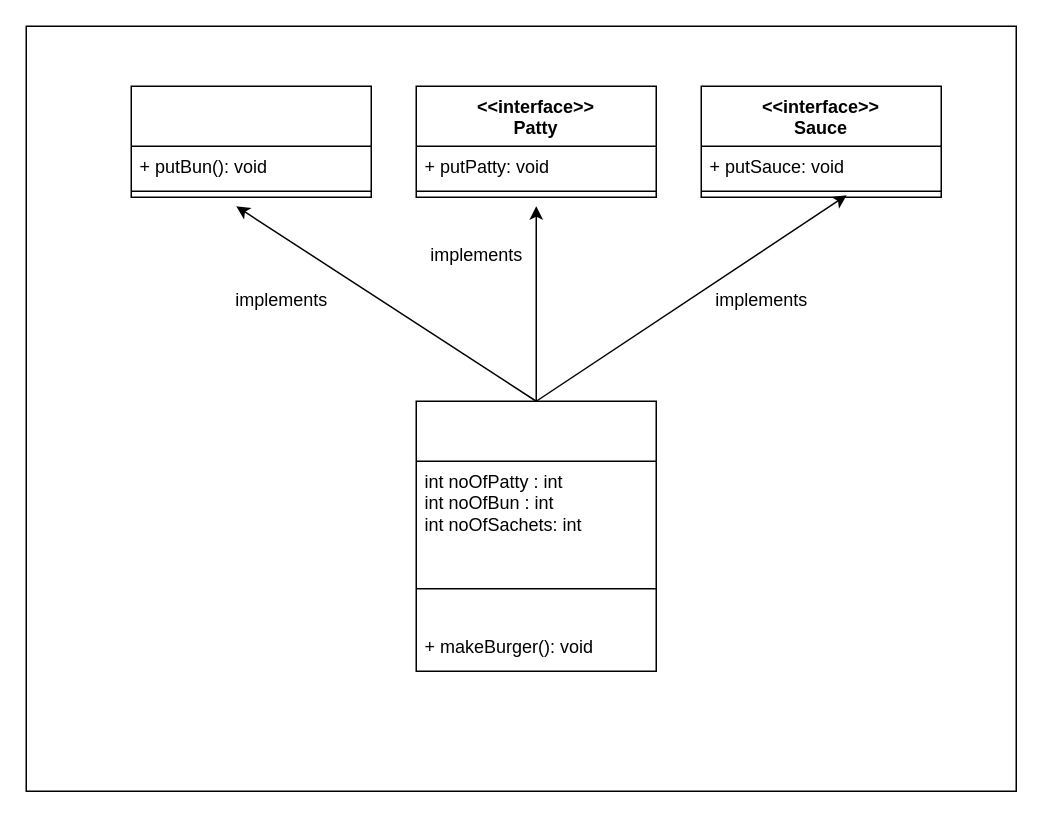
Some shapes in this 1043 by 818 pixel diagram are drawn without their labels. Here are the shapes that lost their labels. From the top down, the box of each, then its label:
(130, 85, 371, 197): <<interface>> Bun
(415, 400, 656, 671): Class BurgerMaker
